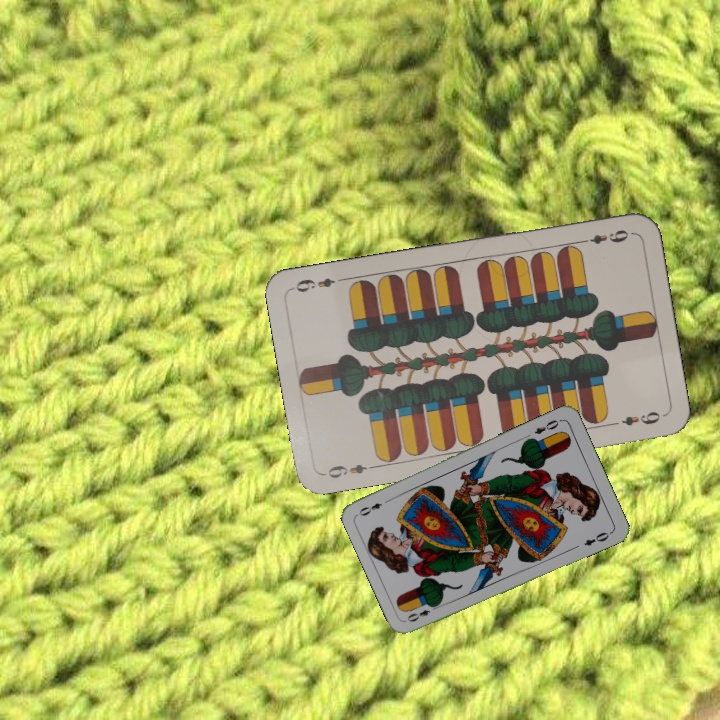E9: (575, 225, 634, 247), (320, 460, 379, 481)
EO: (403, 601, 441, 625), (530, 415, 564, 437)
